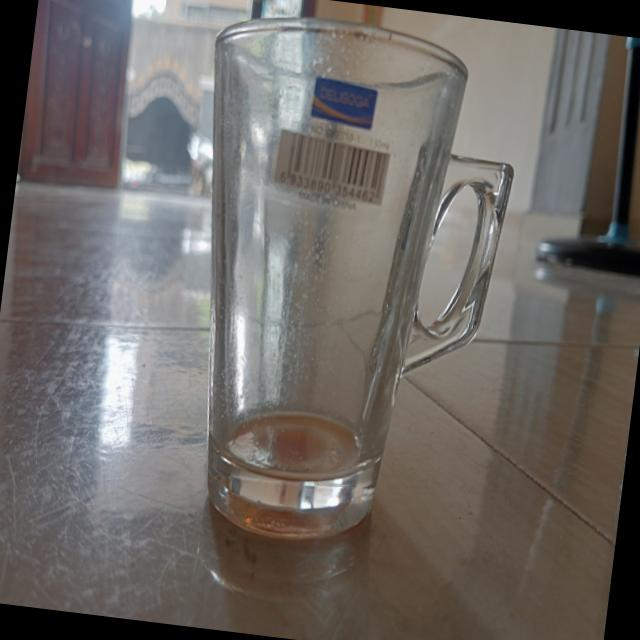glass-VX4N: (154, 7, 528, 567)
